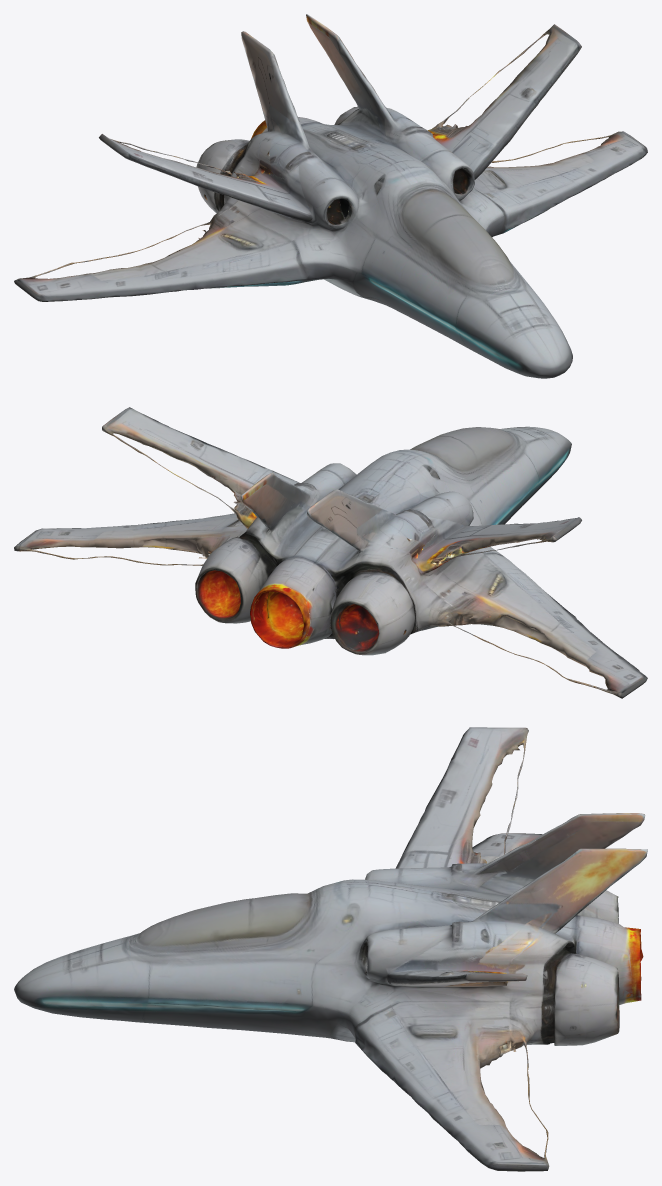
The model's file is Spaceship_fire_white.glb.
3 views of the same model, one above another, from view 1: azimuth 30°, elevation 25°; view 2: azimuth 150°, elevation 25°; view 3: azimuth 270°, elevation 25° (orthographic). The views are drawn at different scales.
Bounding box in the file's own units: 2 × 0.553 × 1.61.
Materials: 1 (1 with a texture image).
